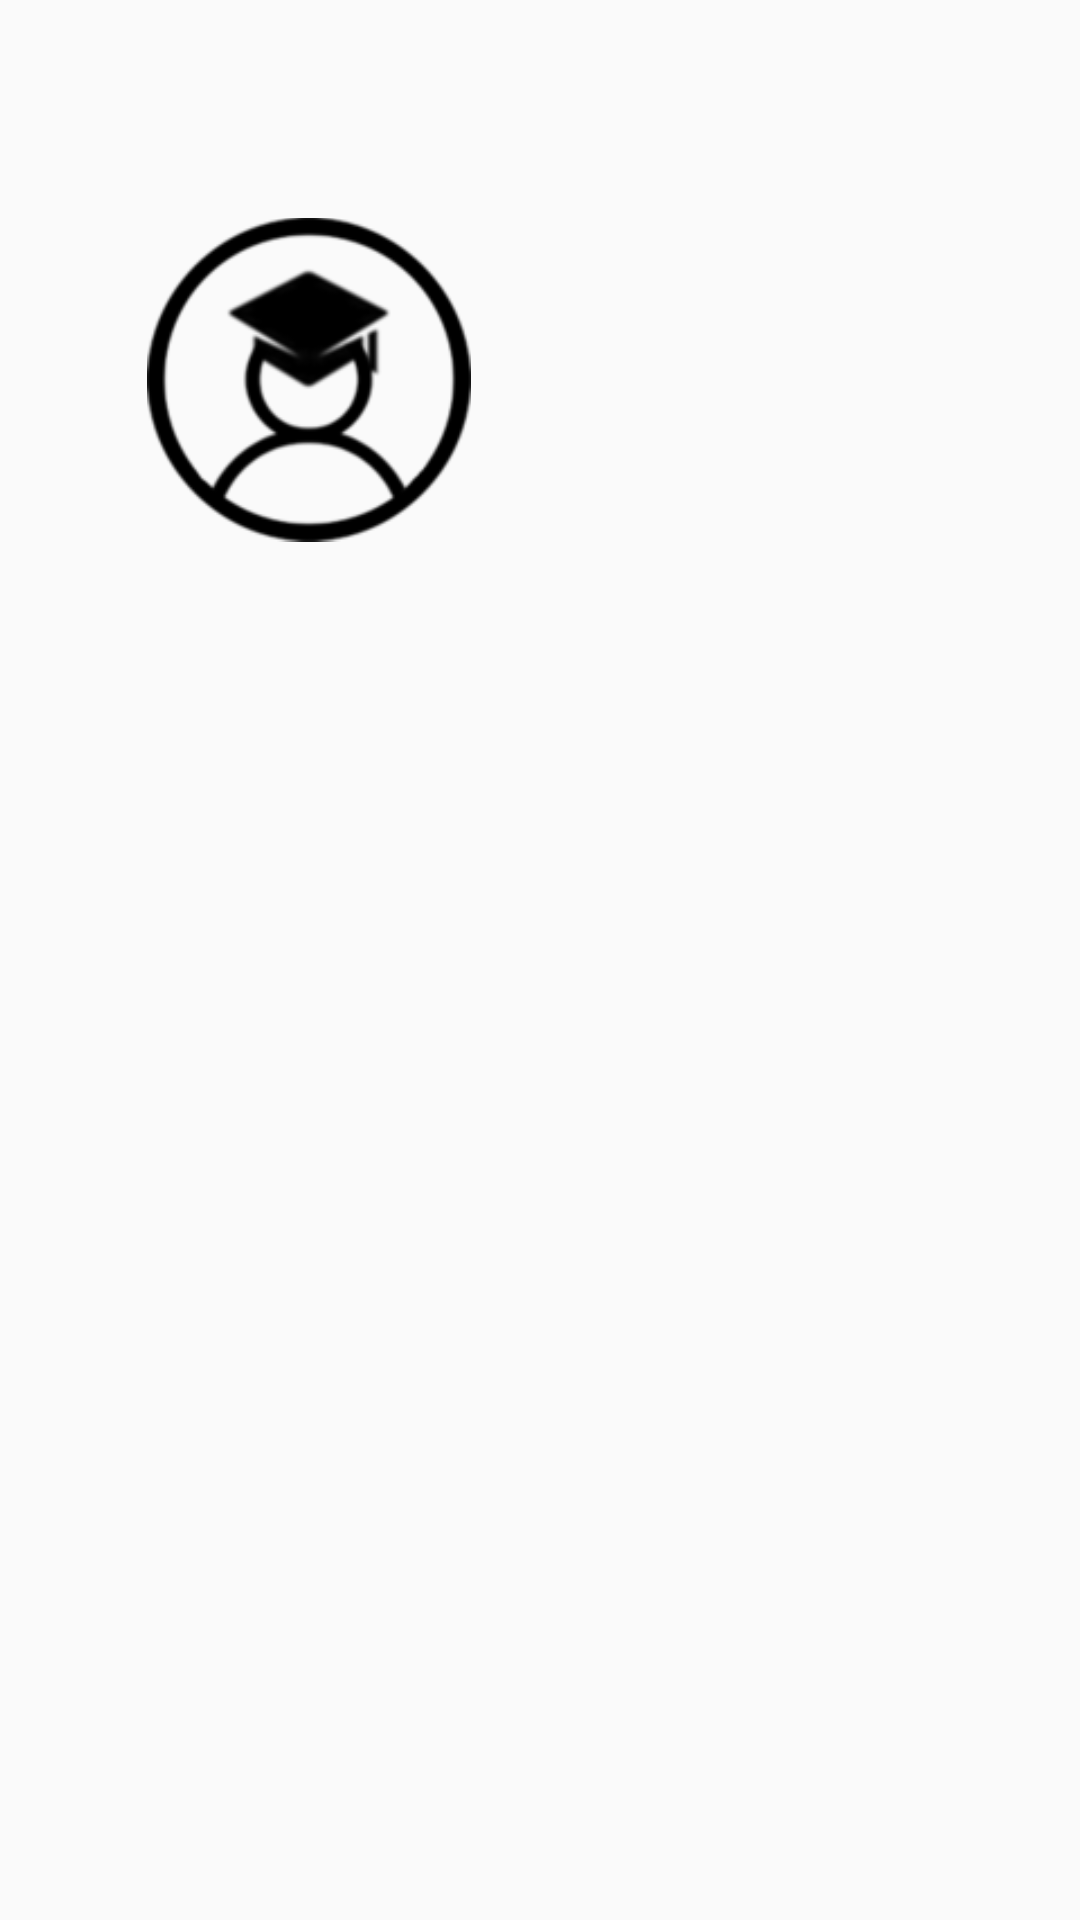

Icons on this 1080 × 1920 Android screen, each with its box as (x1, y1, x2, y2):
perfil: (147, 218, 471, 542)
